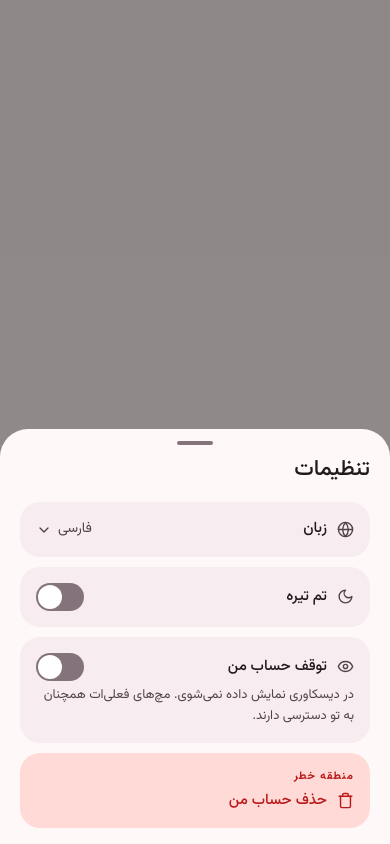
Test: SettingsSheet language row › is the first row, shows the current language, and opens the options
Click the button "زبان فارسی" at (75, 529), box [20,502,370,557]
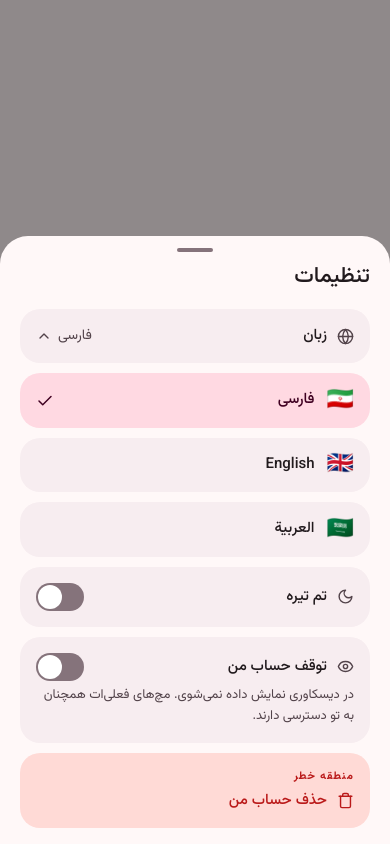
Expected: the button "زبان فارسی" is expanded, [20,309,370,363]
Expected: the element showing "🇮🇷 فارسی 🇬🇧 English 🇸🇦 العربية" is shown, [20,373,370,557]
